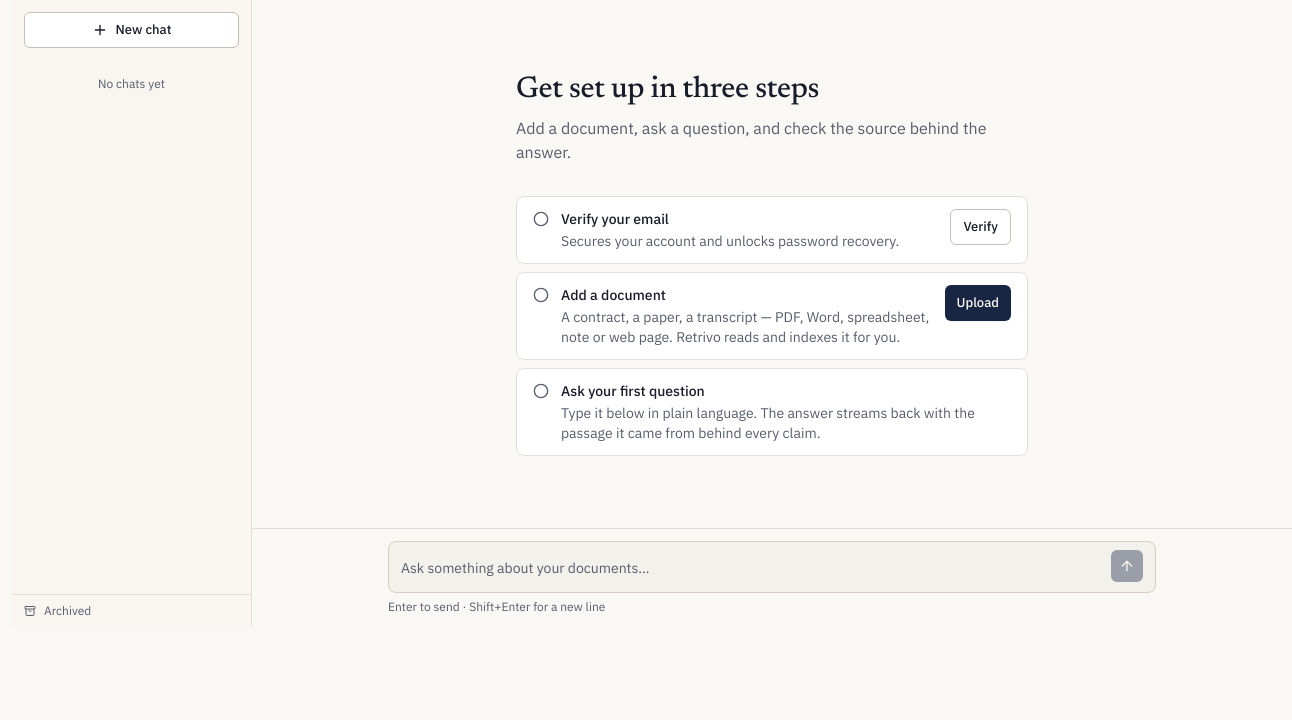
Test: Chat › creates a session then streams an answer with sources
Type "When does it renew?" into the text box named "ask a question" at (752, 568), box [401,552,1103,584]
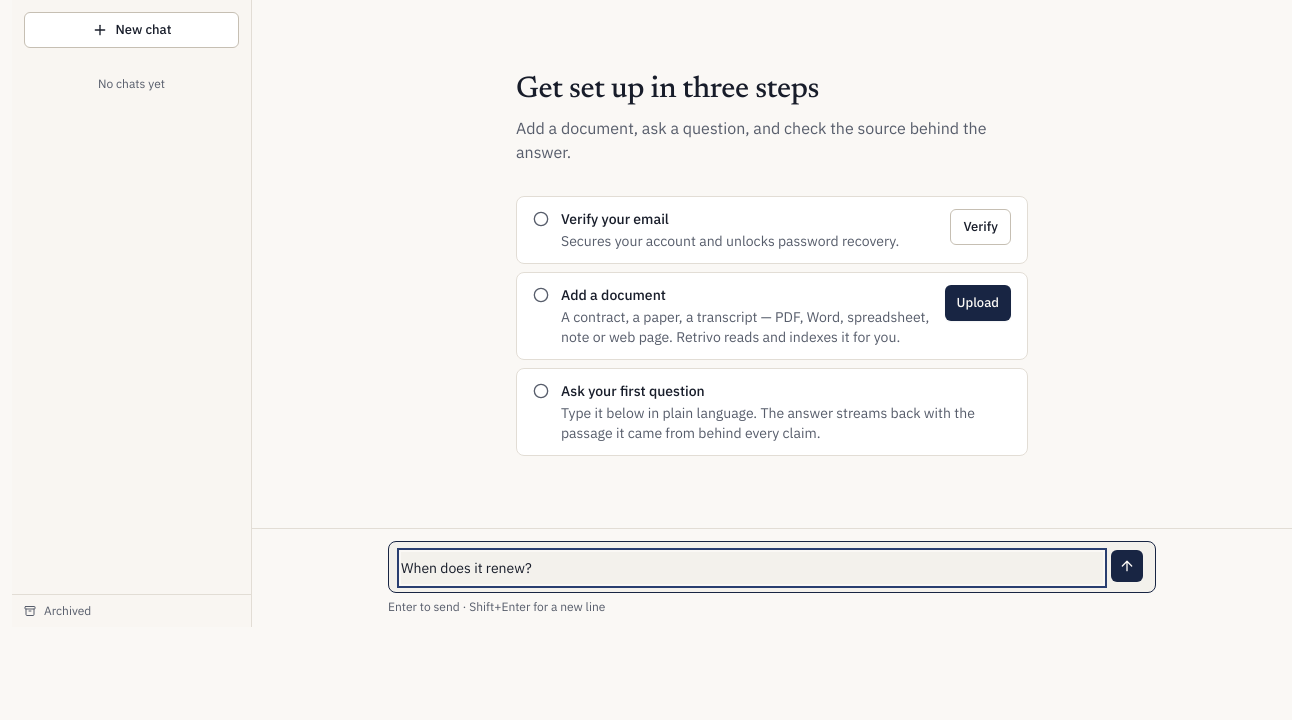
Click the button named "Send" at (1127, 566), box [1111,550,1143,582]
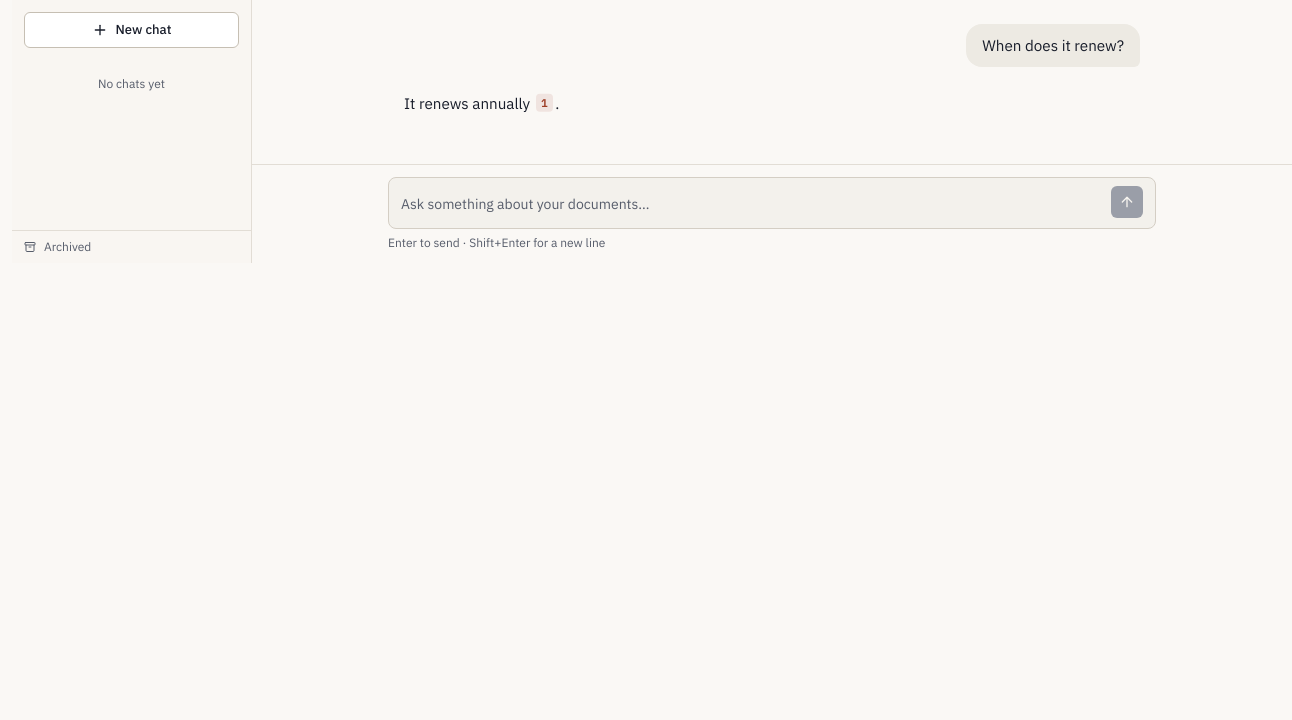
Result: the text "It renews annually 1 ." is shown at [404,93,559,113]
Result: the button named "Source 1" is shown at [536,94,553,112]
